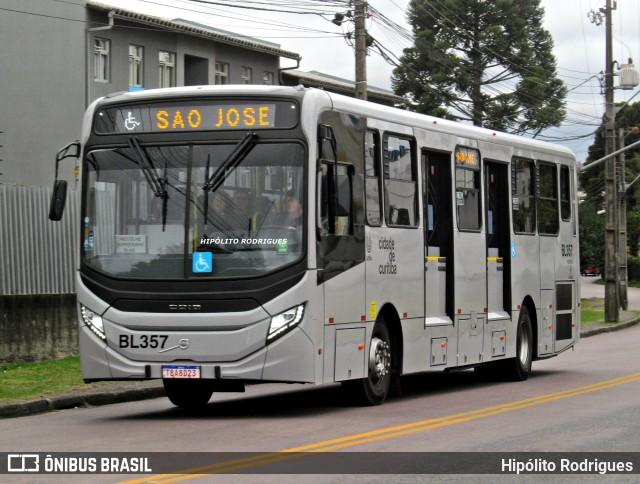SAO JOSE: (150, 104, 275, 131)
